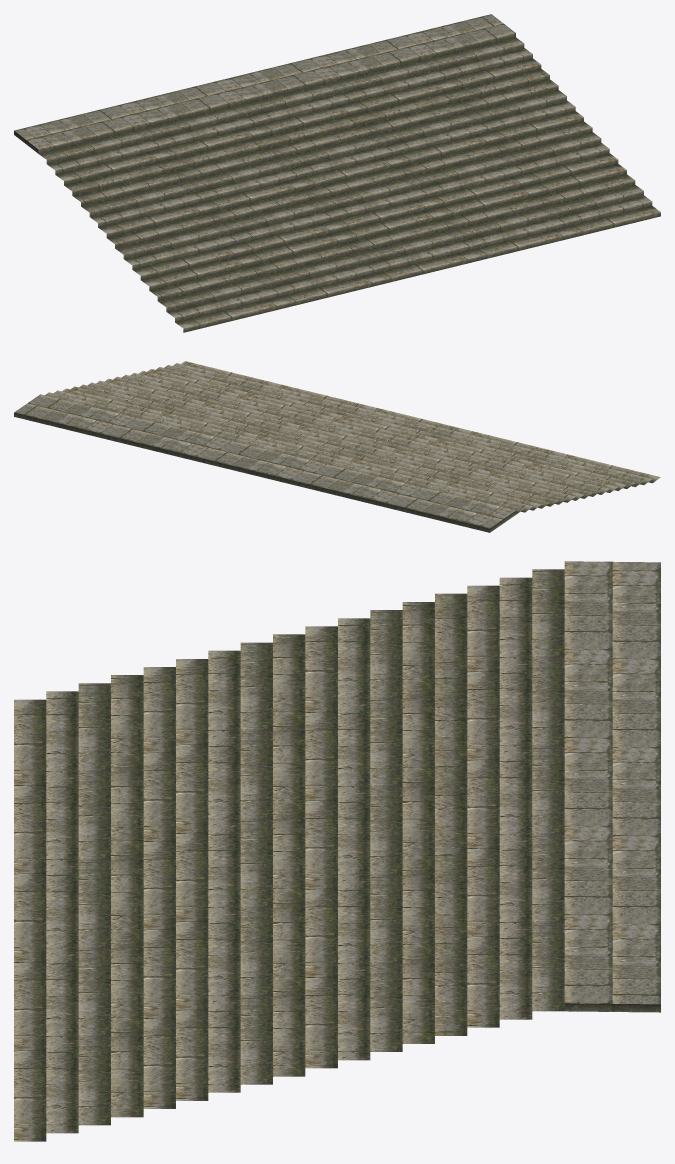
Rendered from stone_steps00.glb.
3 renders of one model, top to bottom at view 1: azimuth 30°, elevation 25°; view 2: azimuth 150°, elevation 25°; view 3: azimuth 270°, elevation 25°, orthographic. The views are drawn at different scales.
Visible parts, largest first — view 1: stone_steps00; view 2: stone_steps00; view 3: stone_steps00.
Boxes of the visible parts, x1=… form: stone_steps00: x1=14, y1=14, x2=660, y2=332; stone_steps00: x1=14, y1=361, x2=660, y2=532; stone_steps00: x1=14, y1=561, x2=660, y2=1141.
Size of the model in its own units: 37.16 by 5.72 by 22.93.
Materials: 1 (1 with a texture image).
